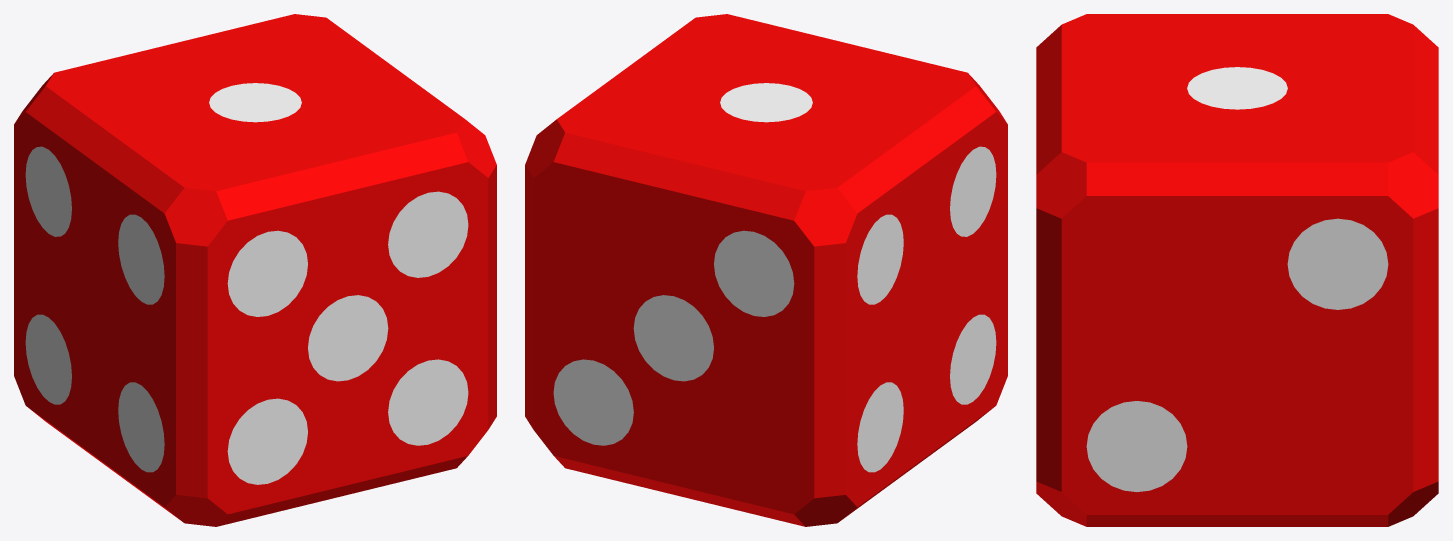
Rendered from redDie.dae.
3 renders of one model, left to right at view 1: azimuth 30°, elevation 25°; view 2: azimuth 150°, elevation 25°; view 3: azimuth 270°, elevation 25°, orthographic. The views are drawn at different scales.
Visible parts, largest first — view 1: instance_0, instance_0.003, instance_0.004, instance_0.005, instance_0.001, instance_0.002, instance_0.007, instance_0.008, instance_0.010, instance_0.009, instance_0.006; view 2: instance_0, instance_0.012, instance_0.013, instance_0.011, instance_0.008, instance_0.007, instance_0.009, instance_0.010, instance_0.006; view 3: instance_0, instance_0.014, instance_0.015, instance_0.006.
Boxes of the visible parts, left/top/right/bottom form: instance_0: left=14, top=14, right=496, bottom=526; instance_0.003: left=308, top=295, right=388, bottom=381; instance_0.004: left=227, top=398, right=307, bottom=484; instance_0.005: left=388, top=359, right=468, bottom=445; instance_0.001: left=227, top=230, right=307, bottom=316; instance_0.002: left=388, top=191, right=468, bottom=277; instance_0.007: left=118, top=214, right=164, bottom=304; instance_0.008: left=25, top=146, right=71, bottom=236; instance_0.010: left=118, top=382, right=164, bottom=472; instance_0.009: left=25, top=314, right=71, bottom=404; instance_0.006: left=209, top=83, right=301, bottom=122; instance_0: left=525, top=14, right=1007, bottom=526; instance_0.012: left=633, top=295, right=713, bottom=381; instance_0.013: left=553, top=359, right=633, bottom=445; instance_0.011: left=714, top=230, right=794, bottom=316; instance_0.008: left=857, top=214, right=903, bottom=304; instance_0.007: left=950, top=146, right=996, bottom=236; instance_0.009: left=857, top=382, right=903, bottom=472; instance_0.010: left=950, top=314, right=996, bottom=404; instance_0.006: left=720, top=83, right=812, bottom=122; instance_0: left=1036, top=14, right=1438, bottom=526; instance_0.014: left=1287, top=218, right=1388, bottom=309; instance_0.015: left=1086, top=401, right=1187, bottom=491; instance_0.006: left=1187, top=67, right=1287, bottom=109.
Size of the model in its own units: 0.0225 by 0.0225 by 0.0225.
